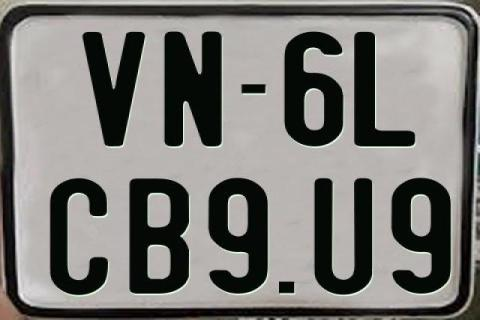0: (208, 176, 272, 297), (282, 30, 344, 150), (388, 176, 452, 292)
B: (129, 178, 195, 296)
C: (49, 177, 111, 296)
L: (352, 32, 413, 150)
N: (164, 31, 224, 149)
U: (314, 178, 376, 296)
V: (81, 31, 144, 151)
